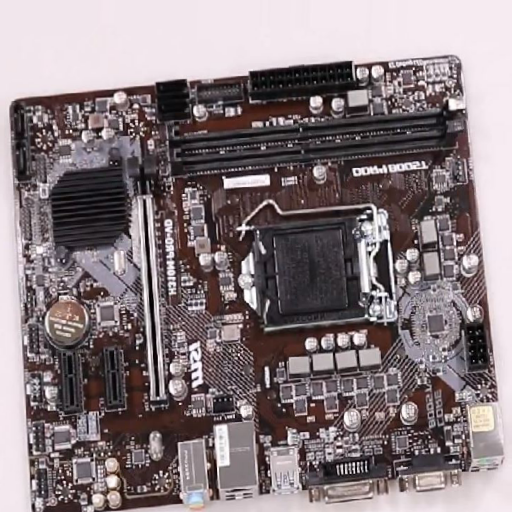CPU: (240, 210, 400, 333)
GPU: (129, 157, 175, 407)
MOTHERBOARD: (25, 57, 501, 512)
RAM: (169, 97, 465, 175)
